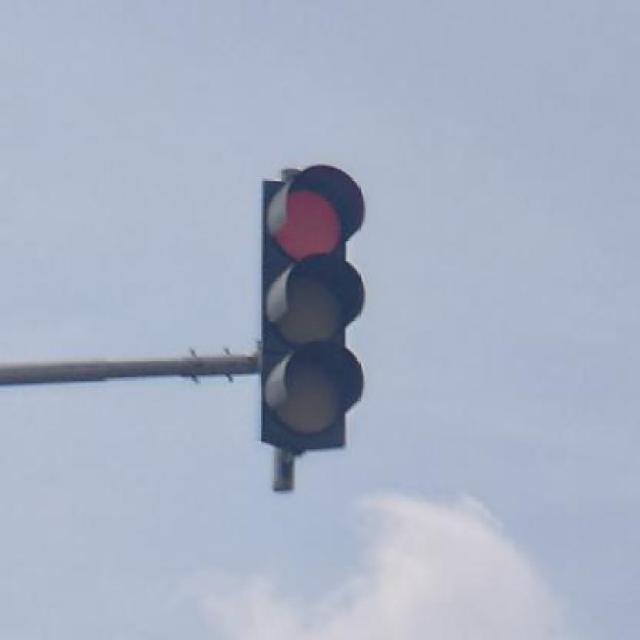traffic light: (262, 180, 362, 446)
